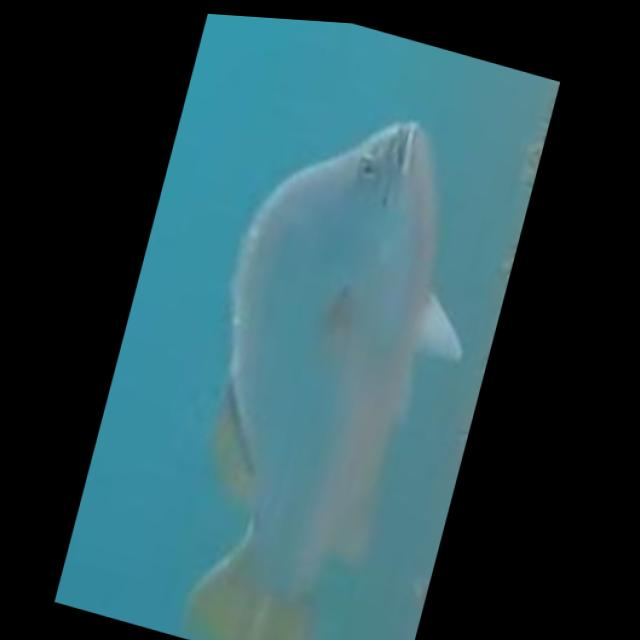Seabass: (133, 73, 518, 640)
